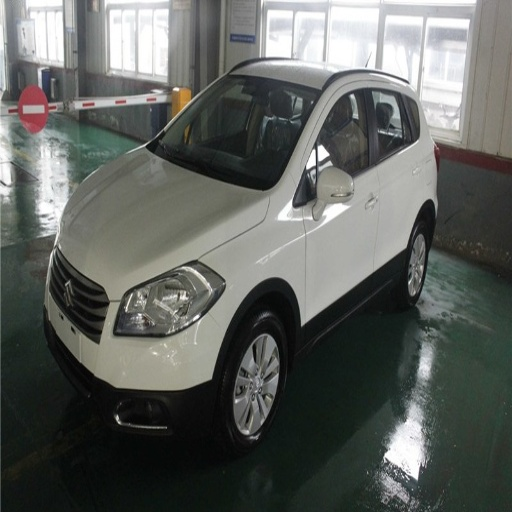front_bumper: (45, 261, 233, 443)
front_glass: (148, 74, 322, 189)
front_left_door: (305, 80, 379, 327)
